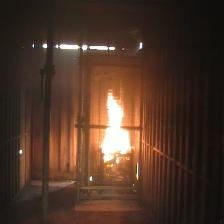fire: (99, 85, 135, 163)
